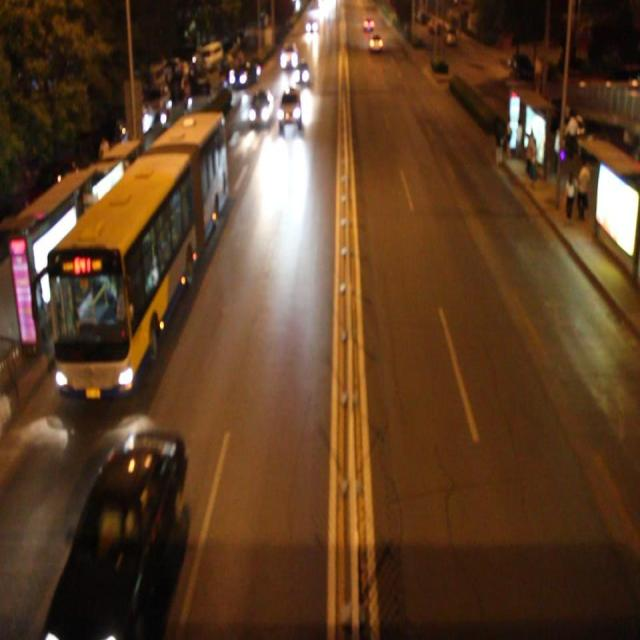car: (61, 423, 188, 640), (248, 88, 274, 128), (277, 88, 301, 129), (292, 56, 311, 86)
van: (48, 111, 225, 406)
